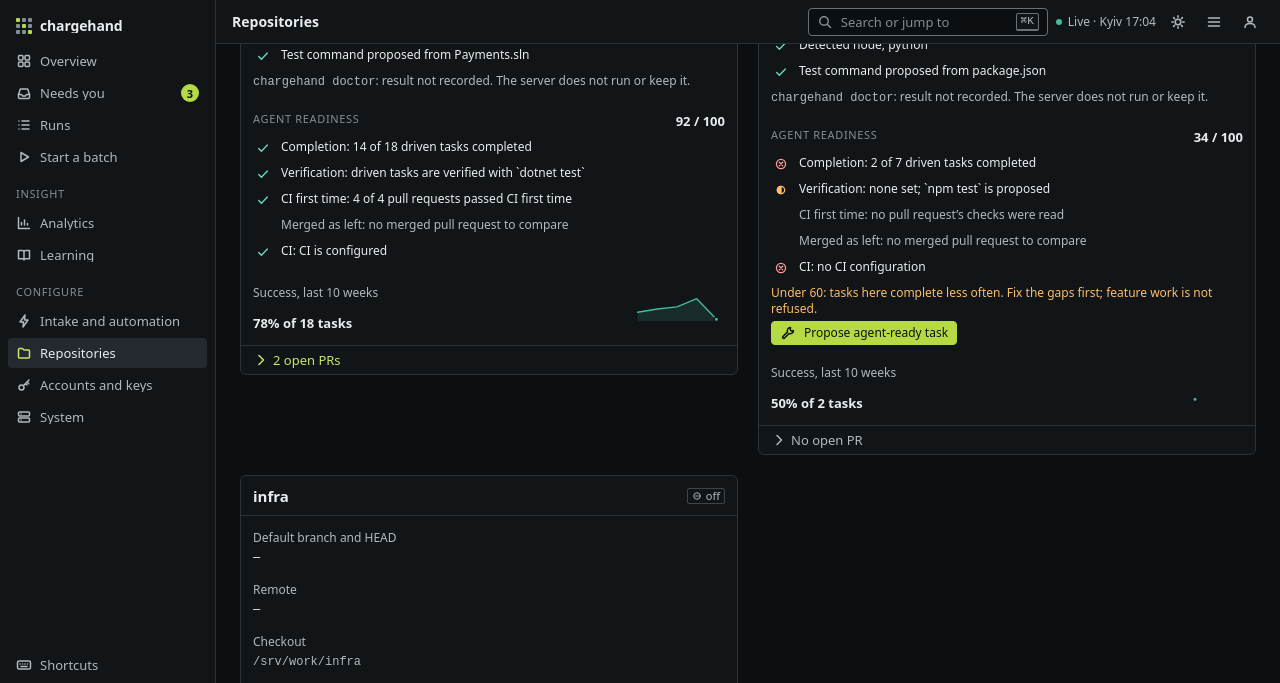
Test case: Repositories with data › never links a pull request whose address is not http or https
This screenshot has width=1280, height=683.
(page scrolled)
Click the button "2 open PRs": (297, 360) [253,350,341,370]
(page scrolled)
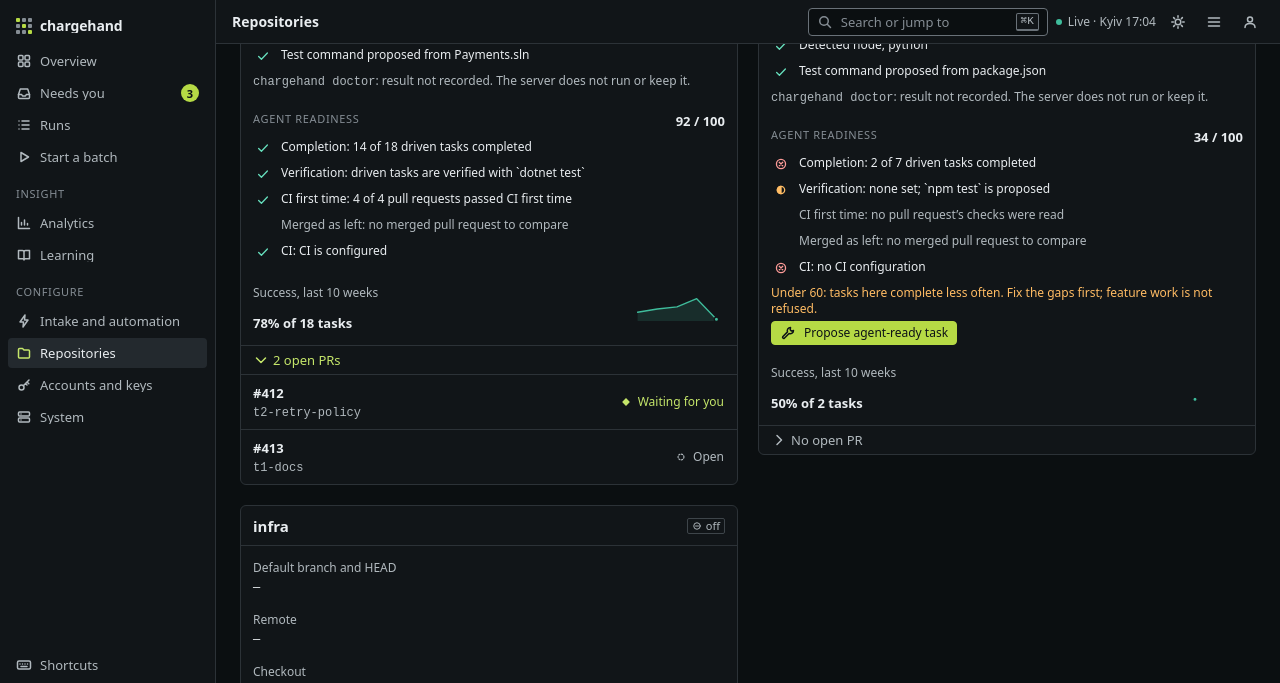
Result: the text "#412" is shown at [253,384,284,402]
